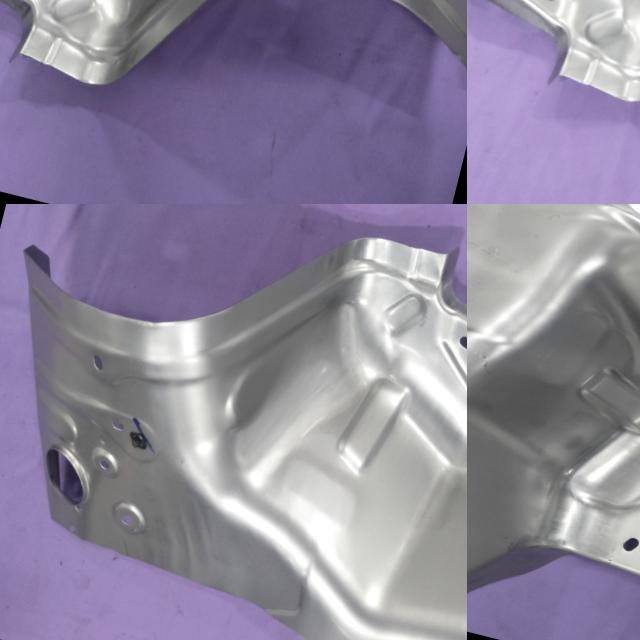Healthy: (0, 204, 467, 640), (0, 0, 467, 178), (467, 0, 640, 192)
